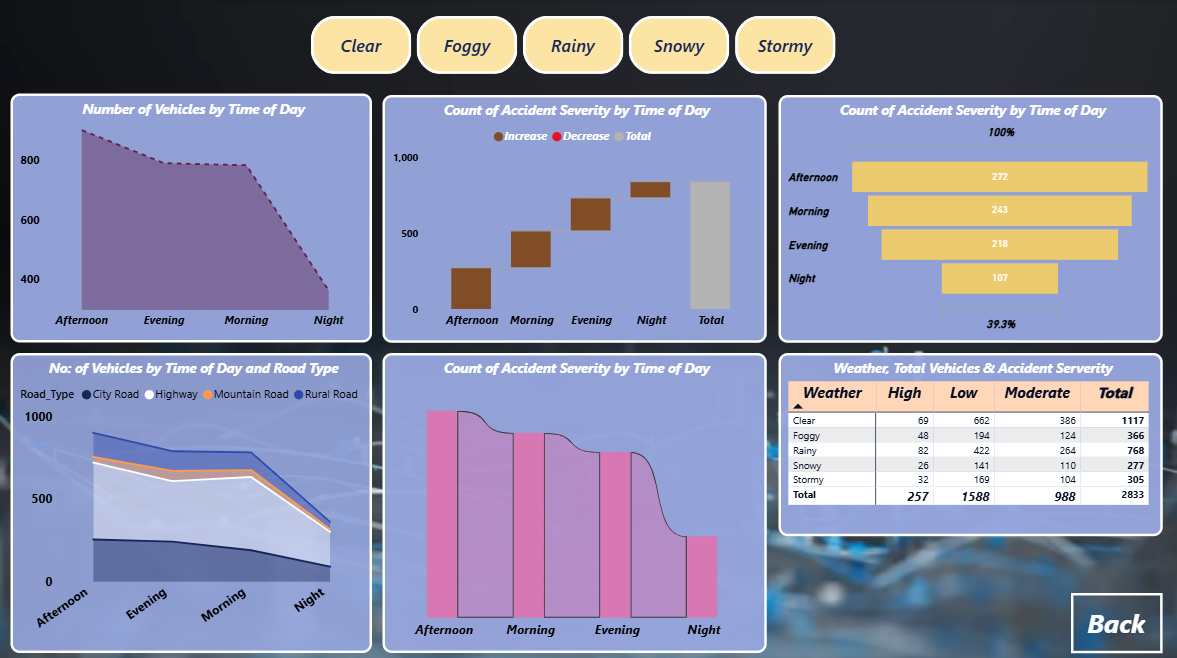

Layout of this report page (visuals, bound fields, positions):
{"tool":"powerbi","page":{"name":"Page 2","canvas":[1280,720],"ordinal":1},"visuals":[{"type":"areaChart","title":"Number of Vehicles by Time of Day","fields":{"Category":["Accident.Time_of_Day"],"Y":["Sum(Accident.Number_of_Vehicles)"]},"box":[11.4,102.5,392,270],"z":0},{"type":"stackedAreaChart","title":"No: of Vehicles by Time of Day and Road Type","fields":{"Category":["Accident.Time_of_Day"],"Y":["Sum(Accident.Number_of_Vehicles)"],"Series":["Accident.Road_Type"]},"box":[11.4,383.9,392,325.3],"z":1000},{"type":"waterfallChart","title":"Count of Accident Severity by Time of Day","fields":{"Category":["Accident.Time_of_Day"],"Y":["CountNonNull(Accident.Accident_Severity_Numeric)"]},"box":[414.8,104.1,416.4,268.4],"z":2000},{"type":"funnel","title":"Count of Accident Severity by Time of Day","fields":{"Y":["CountNonNull(Accident.Accident_Severity)"],"Category":["Accident.Time_of_Day"]},"box":[844.2,104.1,416.4,268.4],"z":3000},{"type":"pivotTable","title":"Weather, Total Vehicles & Accident Serverity","fields":{"Rows":["Accident.Weather"],"Columns":["Accident.Accident_Severity"],"Values":["Sum(Accident.Number_of_Vehicles)"]},"box":[844.2,383.9,416.4,198.4],"z":4000},{"type":"ribbonChart","title":"Count of Accident Severity by Time of Day","fields":{"Y":["CountNonNull(Accident.Accident_Severity)"],"Category":["Accident.Time_of_Day"]},"box":[414.8,383.9,416.4,325.3],"z":5000},{"type":"advancedSlicerVisual","fields":{"Values":["Accident.Weather"]},"box":[331.8,13,583.9,73.2],"z":6000},{"type":"actionButton","box":[1161.4,644.1,99.2,65.1],"z":9000}]}

Visuals, with their boxes in screenshot pixels (x1, y1, x2, y2), scaled from the page's 1280x720 canvas onto the 1177x658 screenshot:
"Number of Vehicles by Time of Day" areaChart: [left=10, top=94, right=371, bottom=340]
"No: of Vehicles by Time of Day and Road Type" stackedAreaChart: [left=10, top=351, right=371, bottom=648]
"Count of Accident Severity by Time of Day" waterfallChart: [left=381, top=95, right=764, bottom=340]
"Count of Accident Severity by Time of Day" funnel: [left=776, top=95, right=1159, bottom=340]
"Weather, Total Vehicles & Accident Serverity" pivotTable: [left=776, top=351, right=1159, bottom=532]
"Count of Accident Severity by Time of Day" ribbonChart: [left=381, top=351, right=764, bottom=648]
advancedSlicerVisual - Accident.Weather: [left=305, top=12, right=842, bottom=79]
actionButton: [left=1068, top=589, right=1159, bottom=648]
